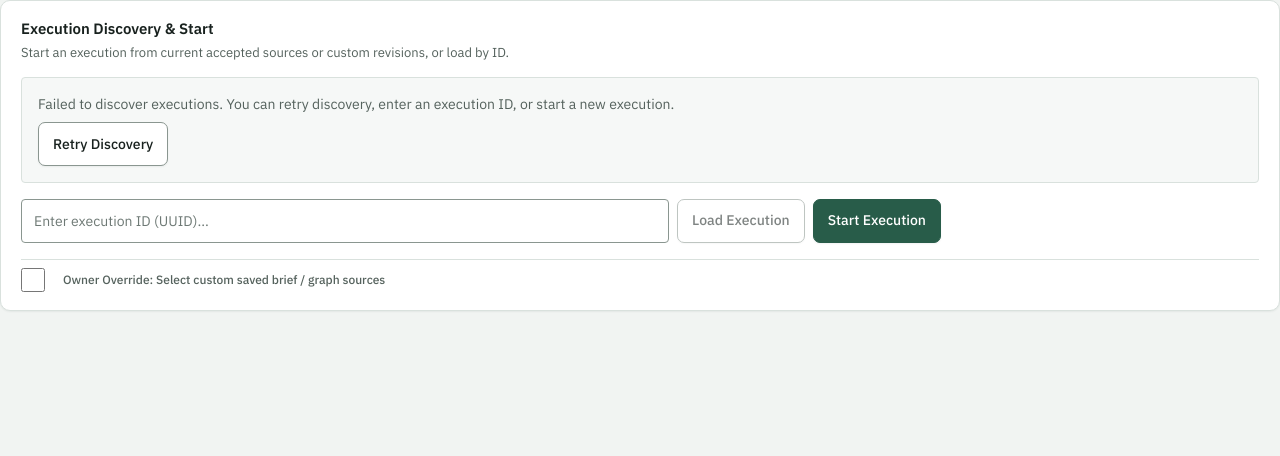
it: DeliveryWorkspace › shows epic version conflict on execution-start 409
Click the button "Start Execution". click: (877, 221)
box: [813,199,941,243]
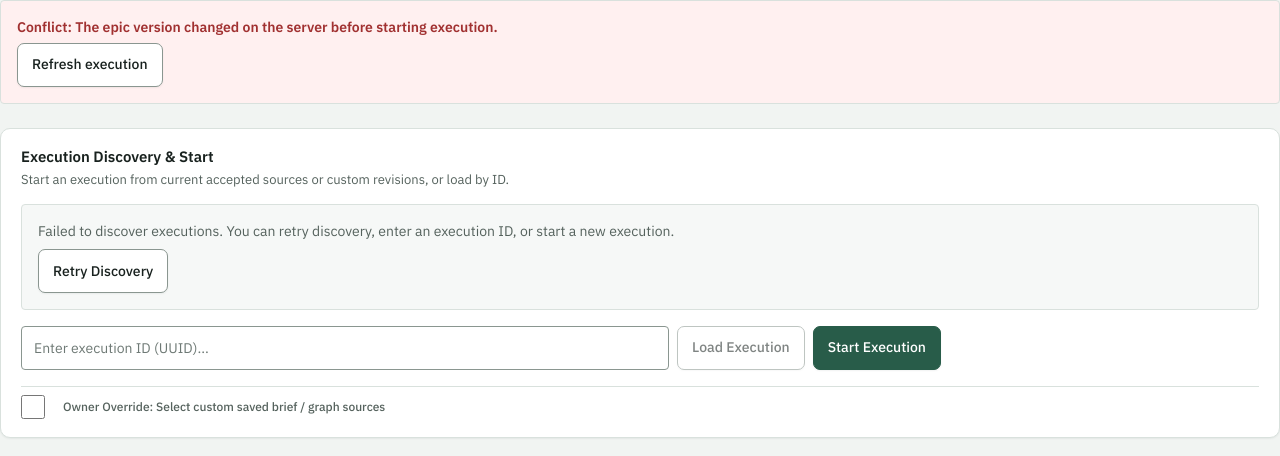
Expected: the text "Conflict: The epic version changed on the server before starting execution." is shown, [17,18,498,36]
